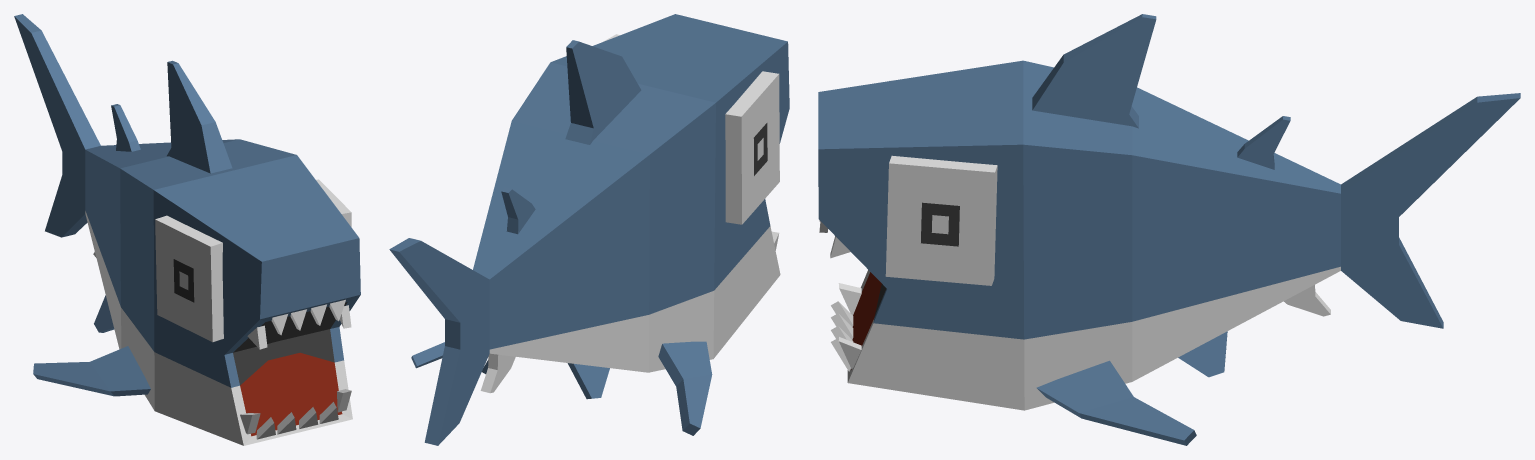
File: Shark_Shocked.fbx
The picture shows the model from 3 angles, left to right: view 1: azimuth 30°, elevation 25°; view 2: azimuth 150°, elevation 25°; view 3: azimuth 270°, elevation 25°; orthographic projection. The views are drawn at different scales.
Parts seen in each view (by area): view 1: Cube.011; view 2: Cube.011; view 3: Cube.011.
Part boxes in pixels (bbox=[...]): Cube.011: bbox=[14, 14, 360, 445]; Cube.011: bbox=[389, 14, 789, 445]; Cube.011: bbox=[818, 14, 1520, 445].
Bounding box in the file's own units: 4.6 × 5.26 × 9.3.
